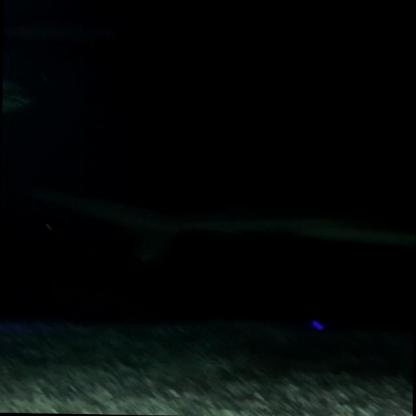fish: (2, 74, 35, 126)
shark: (12, 183, 416, 268)
